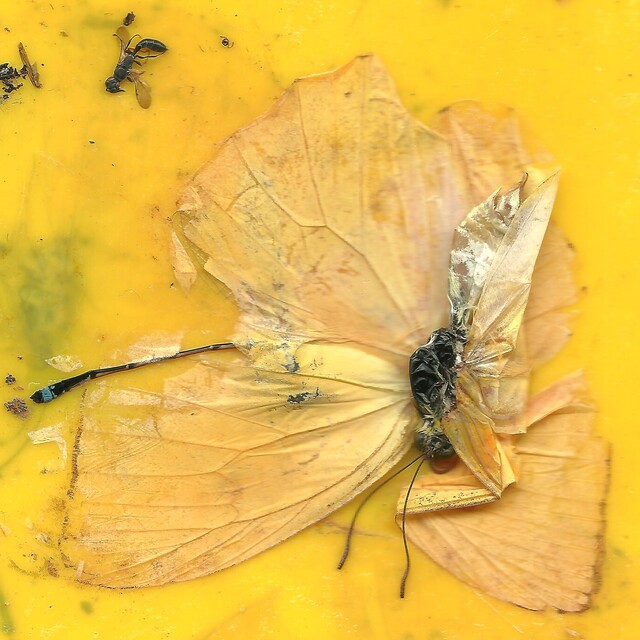Hymenoptera: (102, 26, 168, 111)
Lepidoptera: (55, 54, 614, 614)
Odonata: (26, 171, 325, 414)
